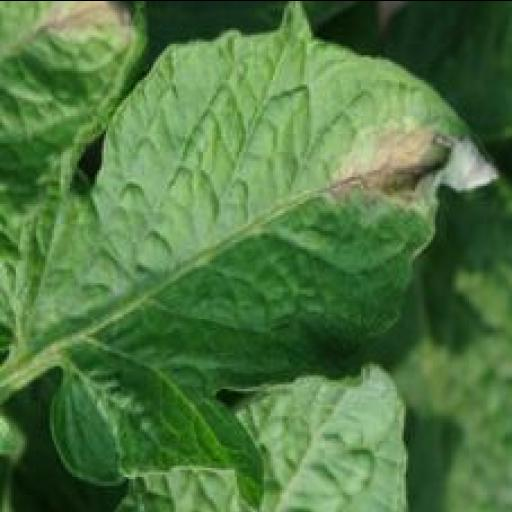Late Blight: (16, 0, 501, 490)
